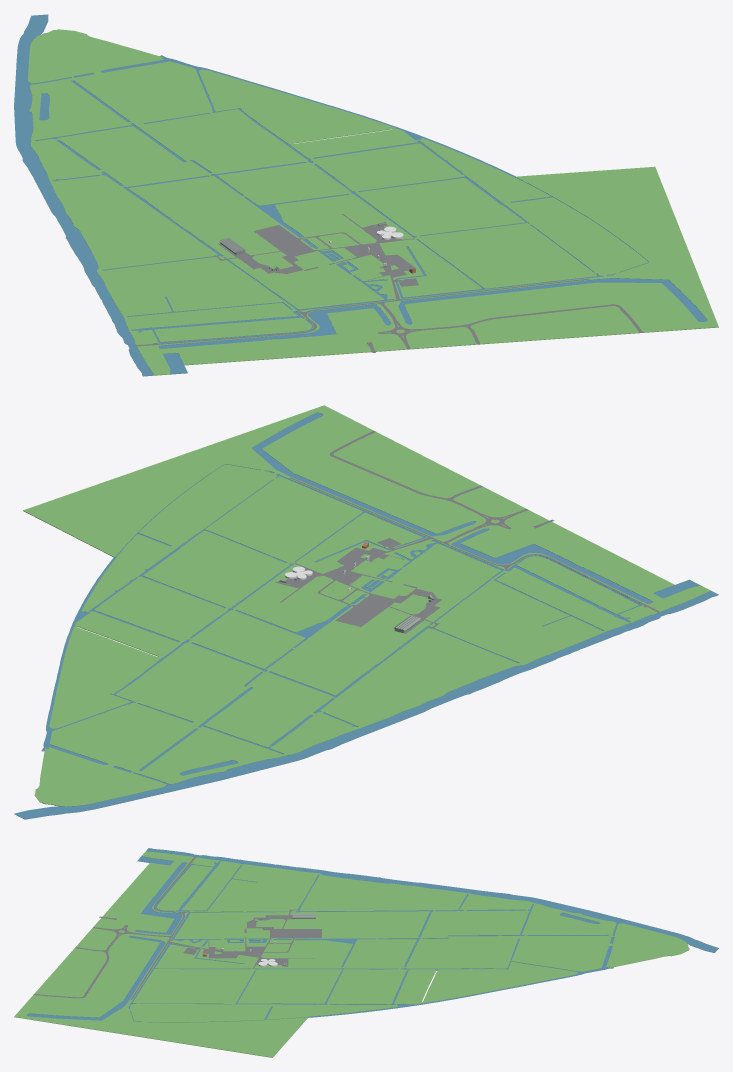
The model's file is campus_terrein.glb.
The picture shows the model from 3 angles, top to bottom: view 1: azimuth 30°, elevation 25°; view 2: azimuth 150°, elevation 25°; view 3: azimuth 270°, elevation 25°; orthographic projection. The views are drawn at different scales.
Visible parts, largest first — view 1: Floor grond [5704300], Floor grond [5740635], Floor NLRS_23_FL_water ihwg 200_gen_CGA [5699857], Floor NLRS_23_FL_water ihwg 200_gen_CGA [5697589], Floor NLRS_23_FL_water ihwg 200_gen_CGA [5702646], Floor grond [5744566], Floor NLRS_23_FL_water ihwg 200_gen_CGA [5693411], Floor NLRS_23_FL_water ihwg 200_gen_CGA [5694917], Floor straatwerk [5721253], Floor straatwerk [5748233], Floor straatwerk [5718092], Floor straatwerk [5751336]; view 2: Floor grond [5704300], Floor grond [5740635], Floor NLRS_23_FL_water ihwg 200_gen_CGA [5699857], Floor NLRS_23_FL_water ihwg 200_gen_CGA [5697589], Floor NLRS_23_FL_water ihwg 200_gen_CGA [5702646], Floor grond [5744566], Floor NLRS_23_FL_water ihwg 200_gen_CGA [5693411], Floor NLRS_23_FL_water ihwg 200_gen_CGA [5694917], Floor straatwerk [5721253], Floor straatwerk [5748233], Floor straatwerk [5718092]; view 3: Floor grond [5704300], Floor grond [5740635], Floor NLRS_23_FL_water ihwg 200_gen_CGA [5699857], Floor NLRS_23_FL_water ihwg 200_gen_CGA [5697589], Floor NLRS_23_FL_water ihwg 200_gen_CGA [5702646], Floor grond [5744566], Floor NLRS_23_FL_water ihwg 200_gen_CGA [5693411], Floor NLRS_23_FL_water ihwg 200_gen_CGA [5694917], Floor straatwerk [5748233], Floor straatwerk [5721253], Floor straatwerk [5718092].
Part boxes in pixels (x1,y1,x2,y2): Floor grond [5704300]: [28, 29, 647, 329]; Floor grond [5740635]: [136, 166, 718, 375]; Floor NLRS_23_FL_water ihwg 200_gen_CGA [5699857]: [14, 14, 515, 376]; Floor NLRS_23_FL_water ihwg 200_gen_CGA [5697589]: [35, 80, 648, 275]; Floor NLRS_23_FL_water ihwg 200_gen_CGA [5702646]: [30, 58, 313, 374]; Floor grond [5744566]: [154, 317, 311, 341]; Floor NLRS_23_FL_water ihwg 200_gen_CGA [5693411]: [398, 278, 707, 324]; Floor NLRS_23_FL_water ihwg 200_gen_CGA [5694917]: [158, 304, 391, 348]; Floor straatwerk [5721253]: [254, 225, 311, 255]; Floor straatwerk [5748233]: [136, 299, 422, 346]; Floor straatwerk [5718092]: [344, 243, 411, 269]; Floor straatwerk [5751336]: [423, 304, 642, 344]; Floor grond [5704300]: [34, 464, 629, 806]; Floor grond [5740635]: [23, 405, 710, 612]; Floor NLRS_23_FL_water ihwg 200_gen_CGA [5699857]: [14, 557, 718, 819]; Floor NLRS_23_FL_water ihwg 200_gen_CGA [5697589]: [89, 464, 386, 775]; Floor NLRS_23_FL_water ihwg 200_gen_CGA [5702646]: [46, 555, 700, 784]; Floor grond [5744566]: [517, 556, 638, 613]; Floor NLRS_23_FL_water ihwg 200_gen_CGA [5693411]: [252, 413, 476, 536]; Floor NLRS_23_FL_water ihwg 200_gen_CGA [5694917]: [451, 528, 652, 603]; Floor straatwerk [5721253]: [335, 596, 394, 626]; Floor straatwerk [5748233]: [427, 513, 659, 612]; Floor straatwerk [5718092]: [323, 550, 369, 584]; Floor grond [5704300]: [130, 861, 689, 1022]; Floor grond [5740635]: [14, 851, 307, 1057]; Floor NLRS_23_FL_water ihwg 200_gen_CGA [5699857]: [146, 848, 718, 1017]; Floor NLRS_23_FL_water ihwg 200_gen_CGA [5697589]: [128, 894, 608, 1022]; Floor NLRS_23_FL_water ihwg 200_gen_CGA [5702646]: [137, 856, 618, 973]; Floor grond [5744566]: [157, 865, 212, 910]; Floor NLRS_23_FL_water ihwg 200_gen_CGA [5693411]: [26, 936, 165, 1020]; Floor NLRS_23_FL_water ihwg 200_gen_CGA [5694917]: [134, 862, 186, 934]; Floor straatwerk [5748233]: [110, 857, 195, 943]; Floor straatwerk [5721253]: [274, 929, 321, 937]; Floor straatwerk [5718092]: [213, 944, 264, 958].
Size of the model in its own units: 1353 by 9.55 by 1922.
